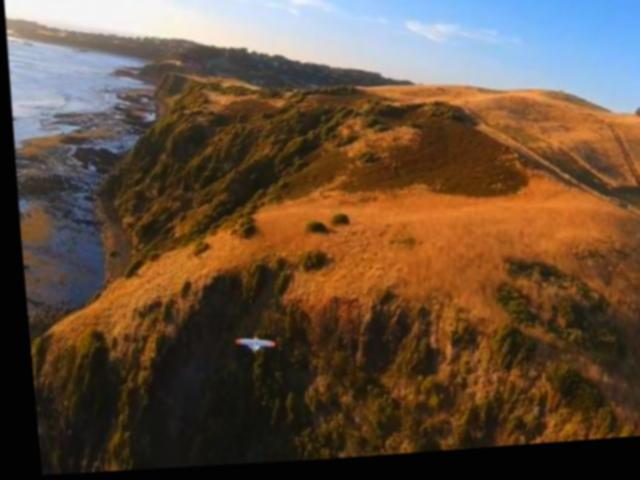uav: (227, 334, 271, 361)
